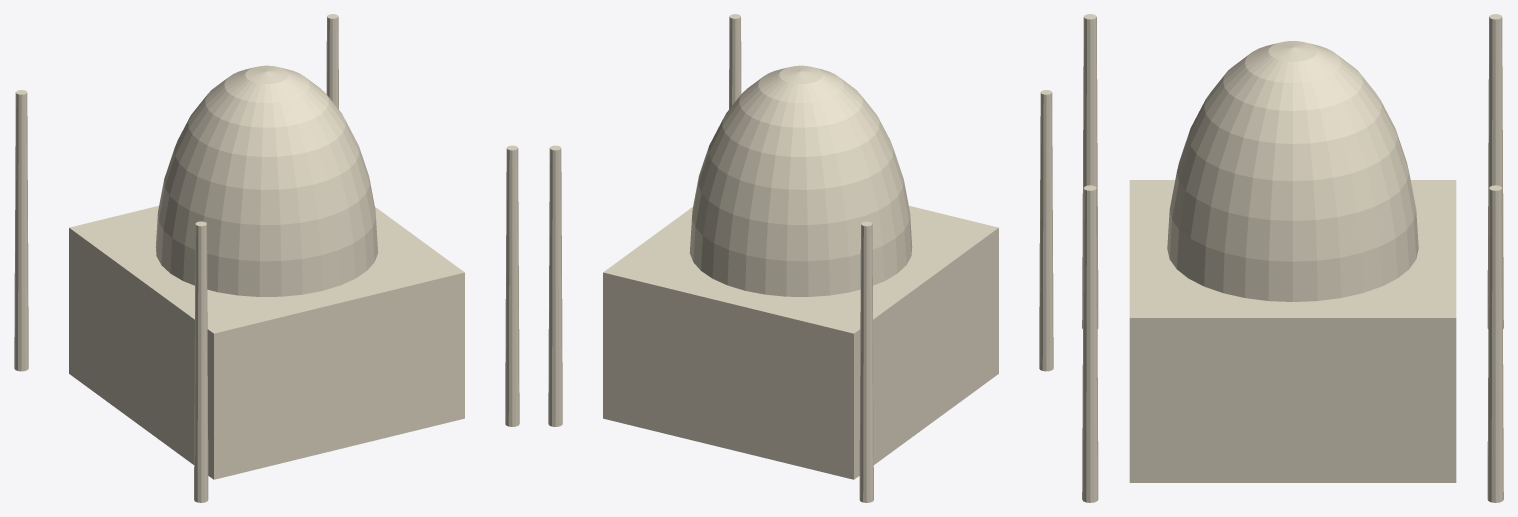
Rendered from place-gol-gumbaz-bijapur.glb.
The picture shows the model from 3 angles, left to right: view 1: azimuth 30°, elevation 25°; view 2: azimuth 150°, elevation 25°; view 3: azimuth 270°, elevation 25°; orthographic projection. The views are drawn at different scales.
Visible parts, largest first — view 1: place-gol-gumbaz-bijapur; view 2: place-gol-gumbaz-bijapur; view 3: place-gol-gumbaz-bijapur.
Part boxes in pixels (<box>): place-gol-gumbaz-bijapur: <box>14,14,519,502</box>; place-gol-gumbaz-bijapur: <box>548,14,1053,502</box>; place-gol-gumbaz-bijapur: <box>1082,14,1503,502</box>.
Size of the model in its own units: 63.59 by 60.96 by 63.59.
